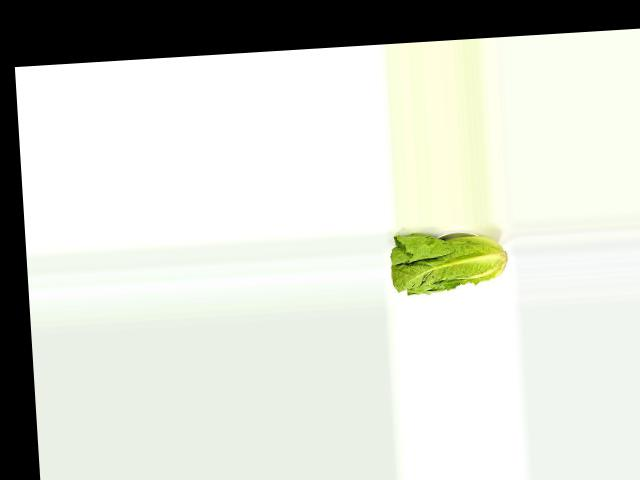lettuce: (388, 227, 510, 298)
